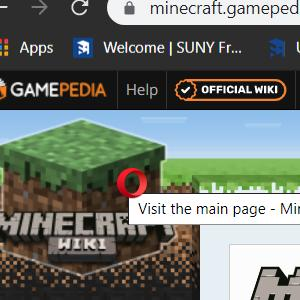opera: (116, 167, 148, 198)
